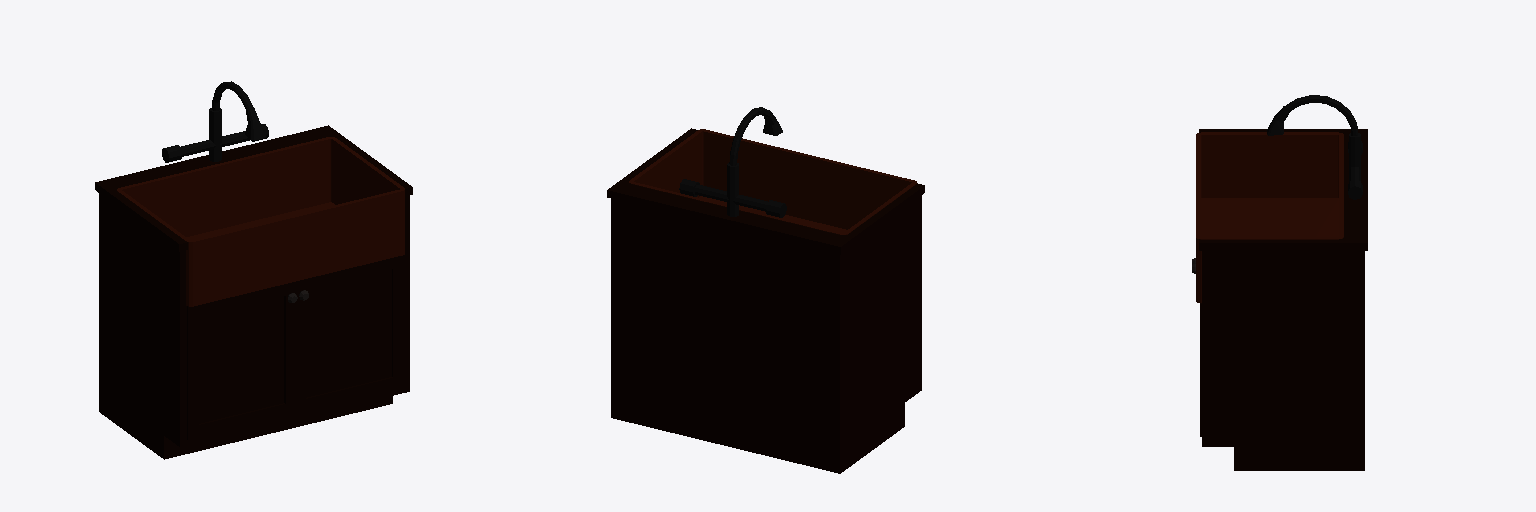
Rendered from WoodSink1KitchenCabinet1.obj.
3 renders of one model, left to right at view 1: azimuth 30°, elevation 25°; view 2: azimuth 150°, elevation 25°; view 3: azimuth 270°, elevation 25°, orthographic.
Visible parts, largest first — view 1: WoodSink1KitchenCabinet1_Cube.002, DoorR1WoodSink1KitchenCabinet1_Cube.001, DoorL1WoodSink1KitchenCabinet1_Cube.003, FaucetSpout1WoodSink1KitchenCabinet1_Cube.012; view 2: WoodSink1KitchenCabinet1_Cube.002, FaucetSpout1WoodSink1KitchenCabinet1_Cube.012; view 3: WoodSink1KitchenCabinet1_Cube.002, FaucetSpout1WoodSink1KitchenCabinet1_Cube.012.
Part boxes in pixels (x1,y1,x2,y2): WoodSink1KitchenCabinet1_Cube.002: (95,108,412,459); DoorR1WoodSink1KitchenCabinet1_Cube.001: (187,282,297,439); DoorL1WoodSink1KitchenCabinet1_Cube.003: (296,255,403,413); FaucetSpout1WoodSink1KitchenCabinet1_Cube.012: (212,81,265,140); WoodSink1KitchenCabinet1_Cube.002: (607,128,924,473); FaucetSpout1WoodSink1KitchenCabinet1_Cube.012: (729,107,782,165); WoodSink1KitchenCabinet1_Cube.002: (1196,129,1367,470); FaucetSpout1WoodSink1KitchenCabinet1_Cube.012: (1267,95,1357,135).
Bounding box in the file's own units: 0.9707 × 1.26 × 0.6359.